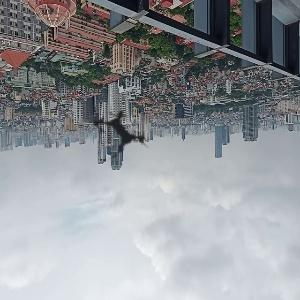drone: (61, 76, 176, 191)
